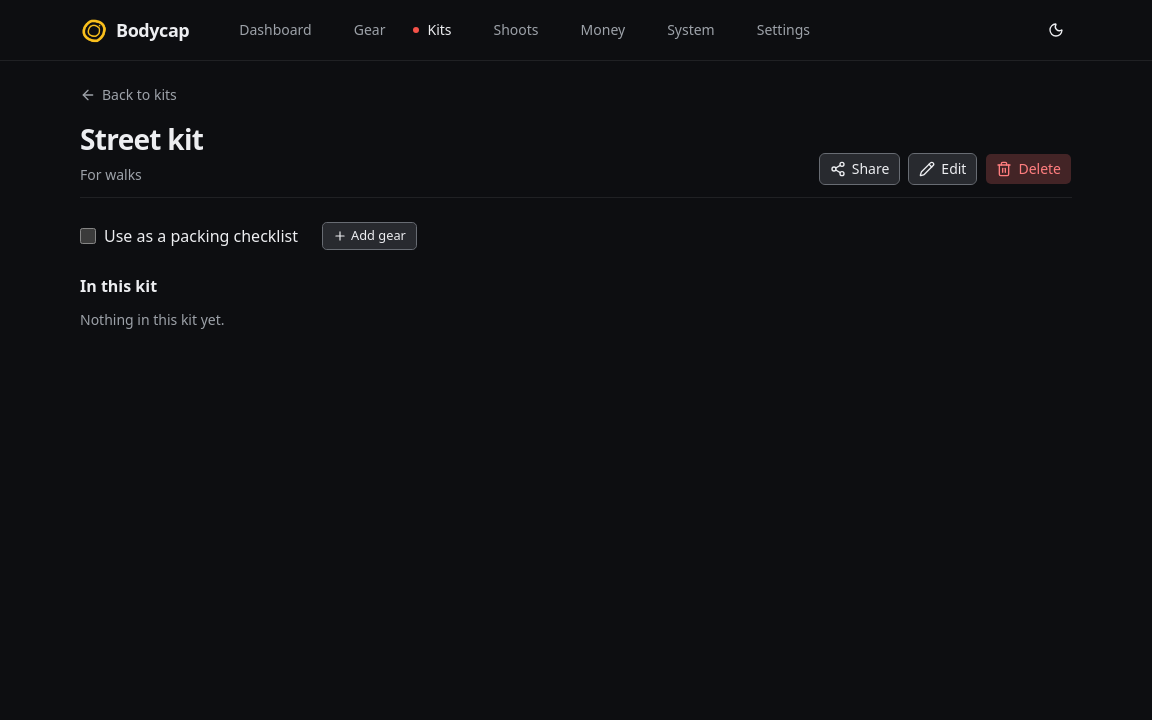
Test: sharing a kit › says when there is nothing to share yet
This screenshot has width=1152, height=720.
Expected: the heading "Street kit" is shown, [80,121,203,157]
Click the button "Share": (860, 169) [819,153,900,185]
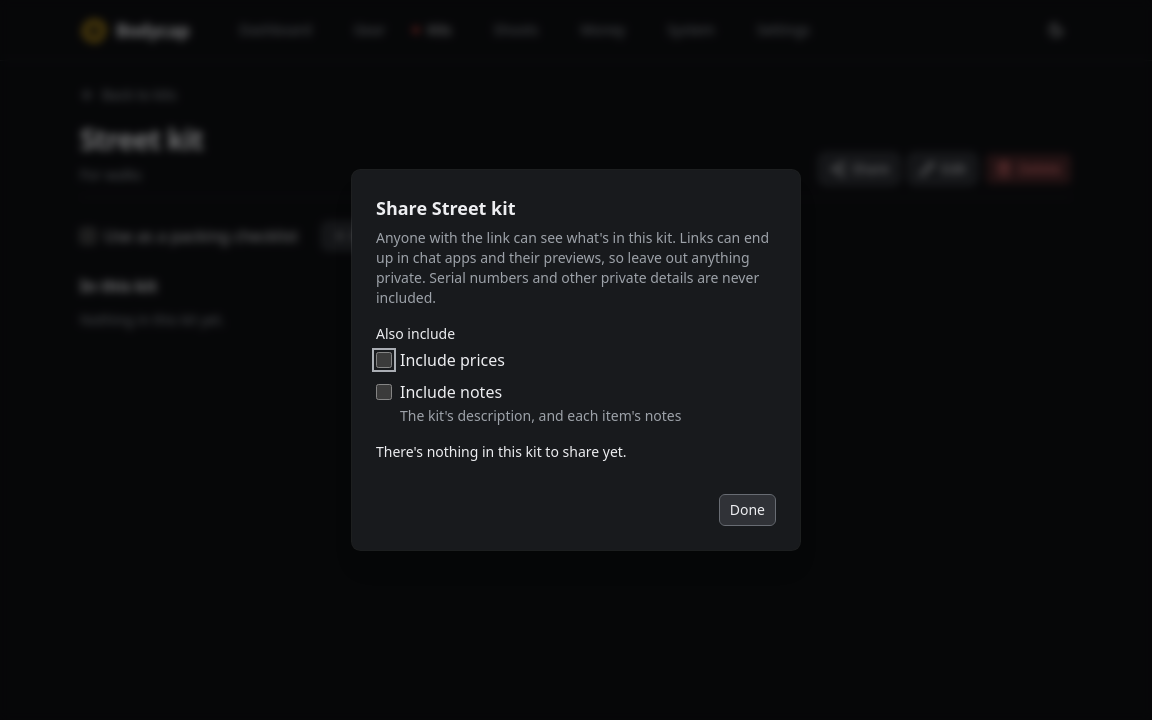
Expected: the text "There's nothing in this kit to share yet." is shown, [376,442,627,461]
